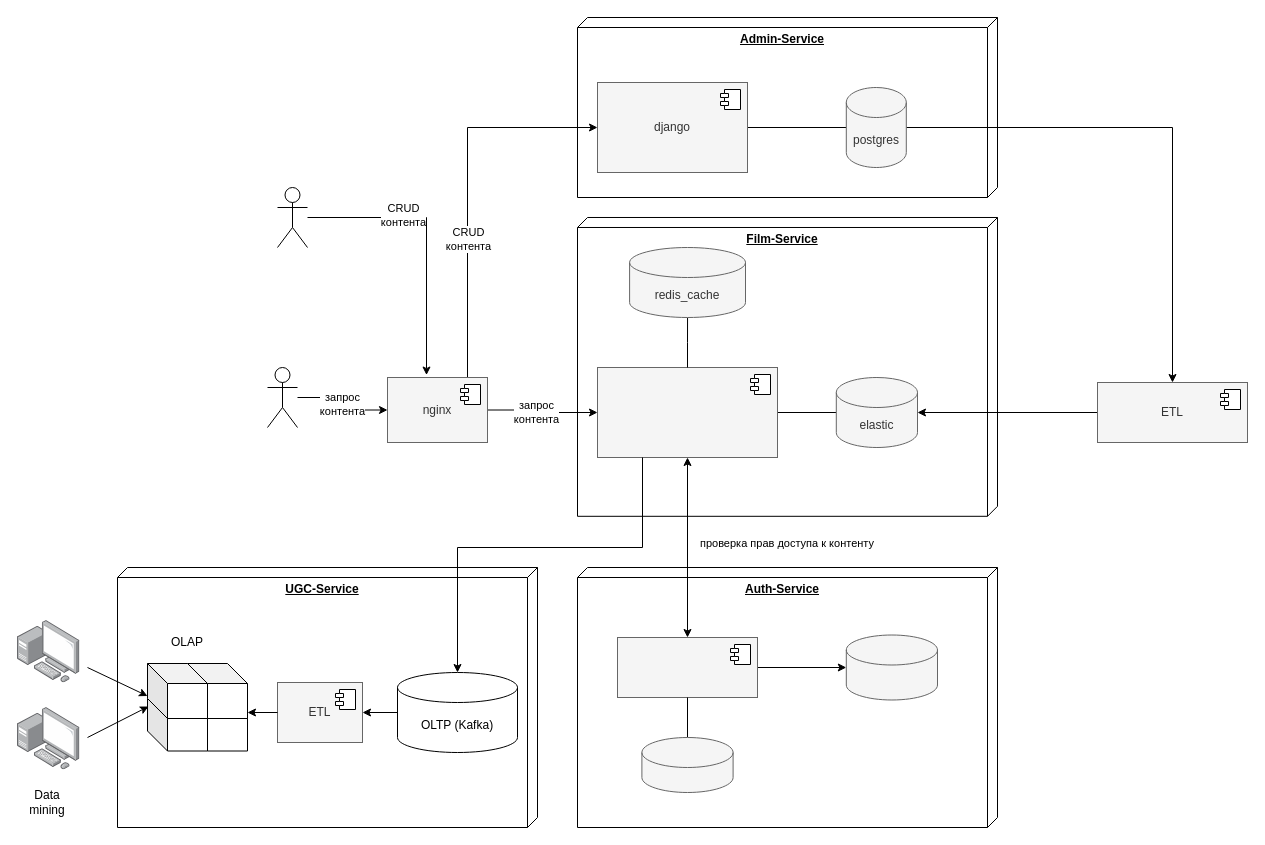
Image size: 1265x845. Some labels were removed from this diagram. The shapes that lost their labels are listed below. From the top down, each one's centre as x and y in pixels, then its label:
point (292, 217): Админ
point (282, 397): Клиент
point (687, 412): async_api
point (687, 667): auth
point (891, 667): auth_redis
point (687, 764): auth_postgres
